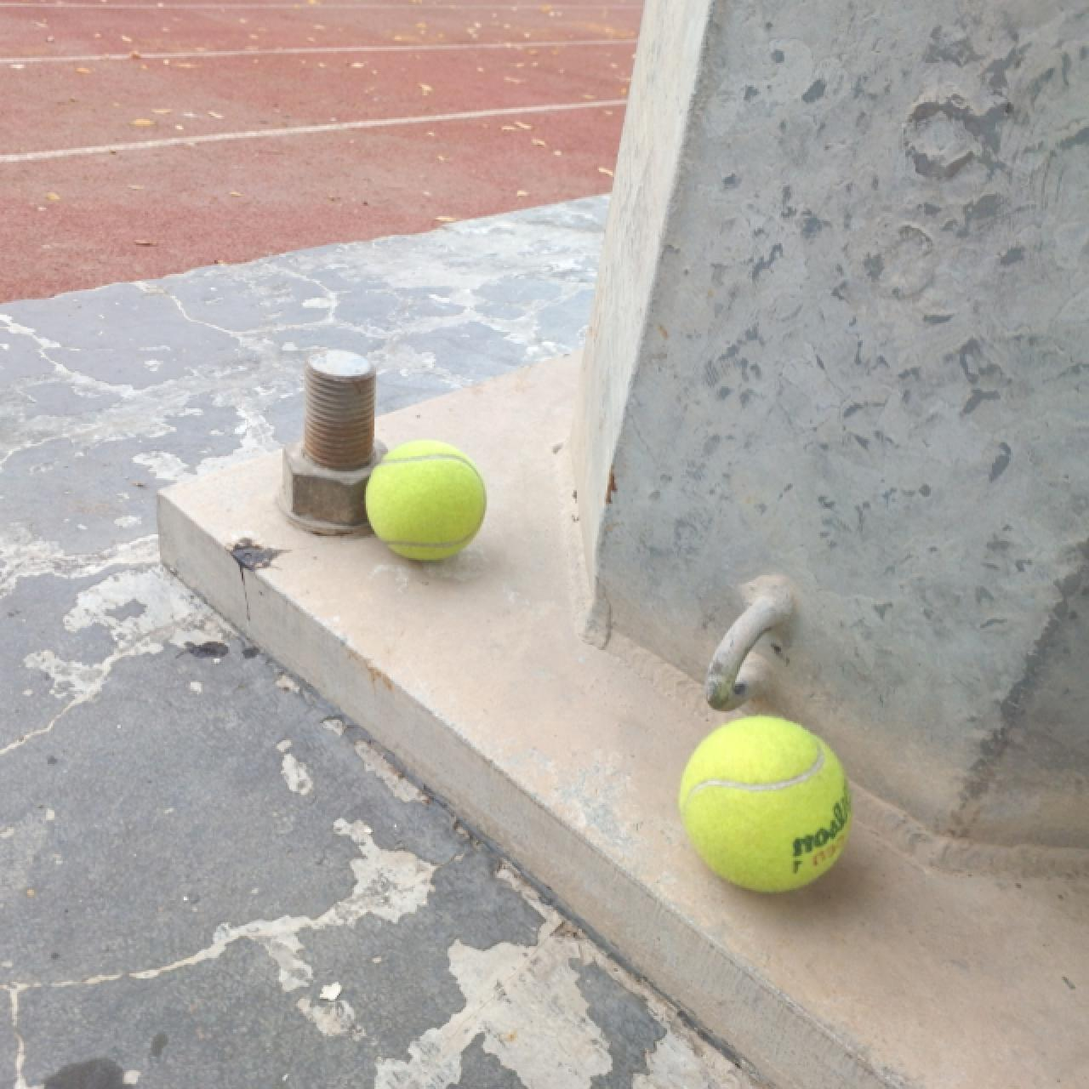tennis-ball: (681, 711, 854, 892), (364, 436, 490, 564)
